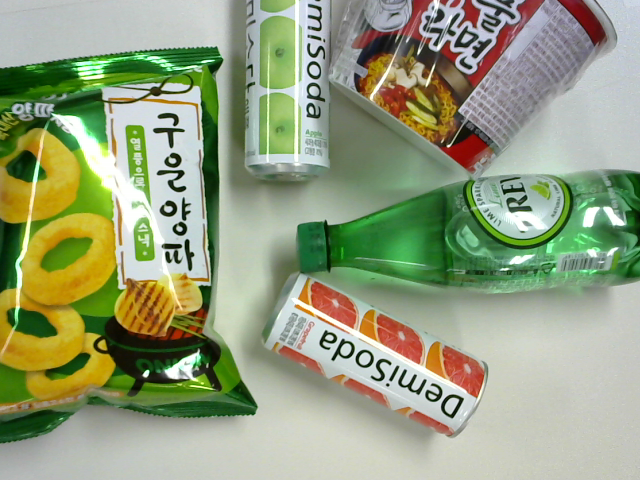Demisoda_Apple_Can_250ml: (235, 1, 340, 184)
Demisoda_Grapefruit_Can_250ml: (256, 273, 491, 442)
Grilled_Onions: (1, 56, 257, 451)
Hejangpul: (312, 1, 615, 186)
Treviraim_500ml: (278, 160, 640, 306)
